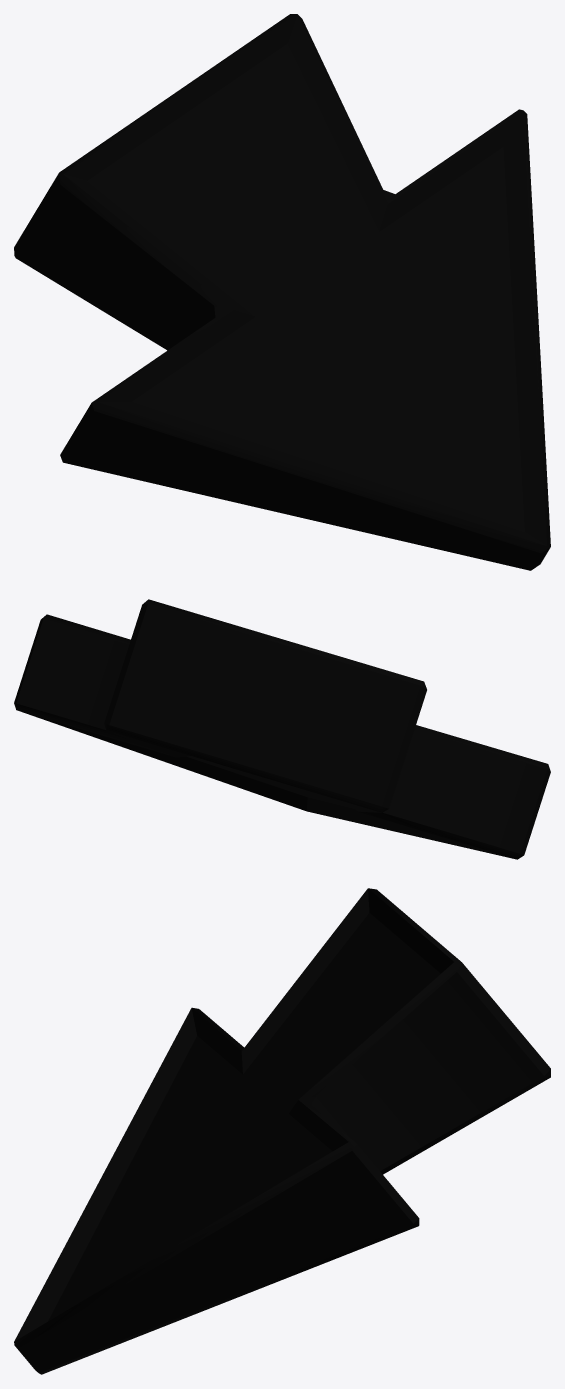
The model's file is Unbenannt.glb.
The picture shows the model from 3 angles, top to bottom: view 1: azimuth 30°, elevation 25°; view 2: azimuth 150°, elevation 25°; view 3: azimuth 270°, elevation 25°; orthographic projection. The views are drawn at different scales.
Visible parts, largest first — view 1: node_id5; view 2: node_id5; view 3: node_id5.
Boxes of the visible parts, box(x1,y1,x2,y2) form: node_id5: box(14, 14, 550, 570); node_id5: box(14, 599, 550, 859); node_id5: box(14, 888, 550, 1374).
Size of the model in its own units: 0.4842 by 0.3667 by 0.4455.
Materials: 1 (1 with a texture image).
